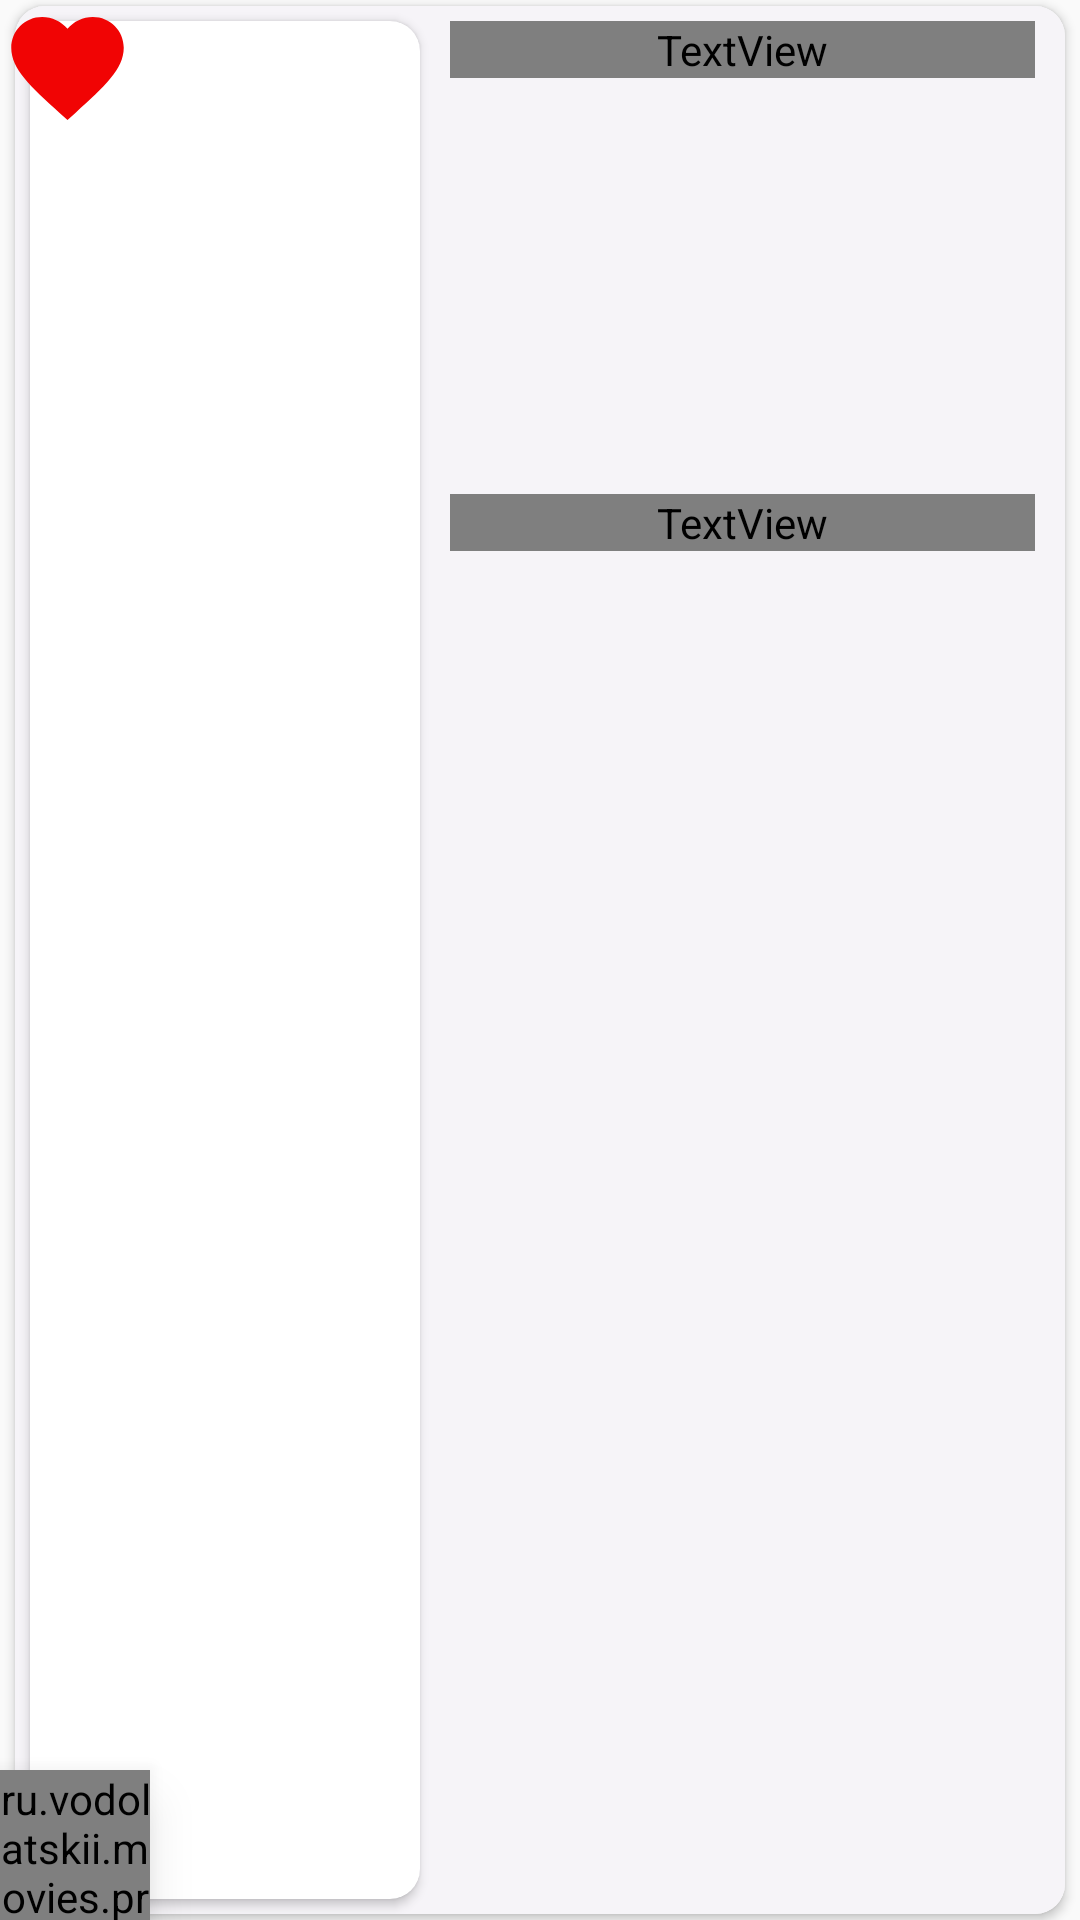

Icons on this 1080px×1920px Android screen, each with the point to tap as (x,y):
favorite: (73,70)
